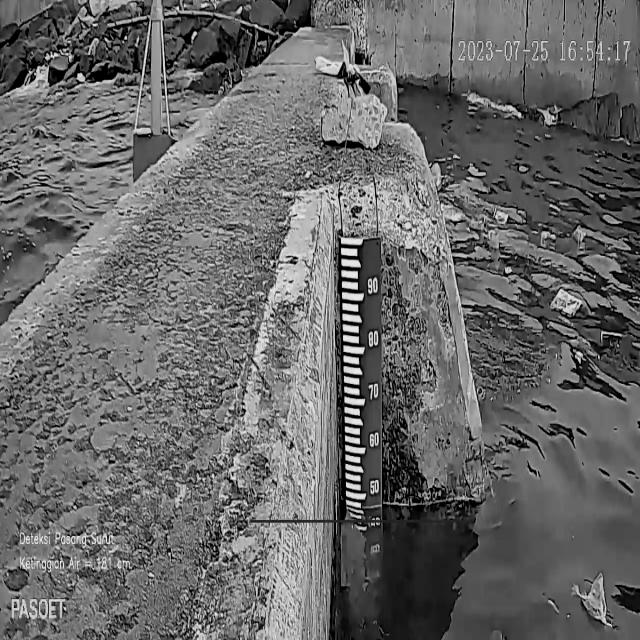50: (369, 478, 380, 496)
60: (368, 431, 379, 448)
70: (368, 381, 379, 401)
80: (368, 330, 378, 348)
90: (368, 276, 379, 295)
staff: (341, 236, 383, 509)
